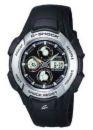watch: (8, 29, 84, 99)
